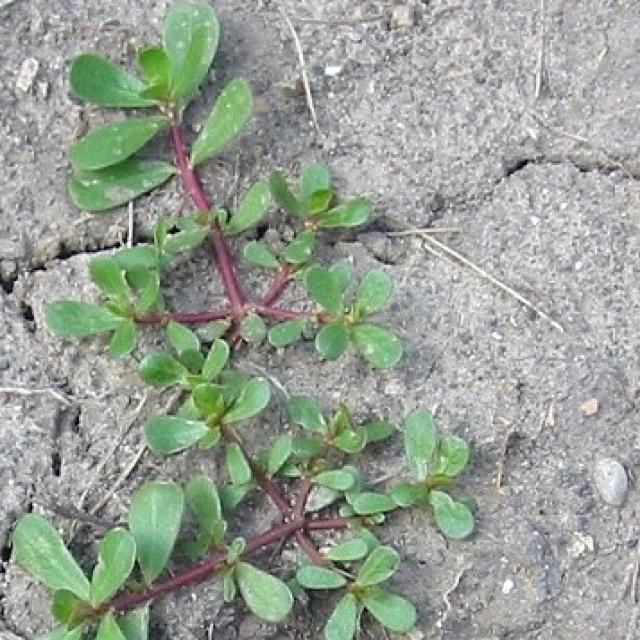Purslane: (9, 3, 477, 640)
